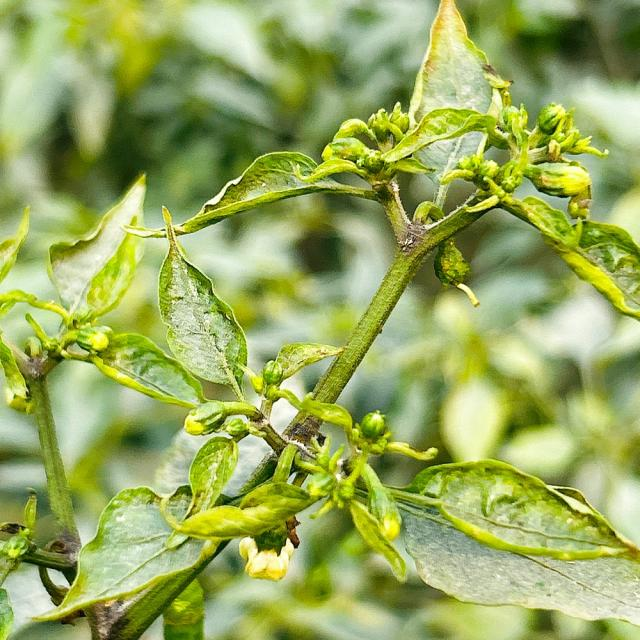Chilli_Leaf_Curl: (1, 1, 638, 637), (392, 457, 638, 625), (29, 483, 226, 627), (401, 0, 508, 180), (169, 149, 383, 237), (155, 204, 249, 400), (498, 193, 639, 320), (308, 101, 498, 190), (45, 170, 148, 326)
